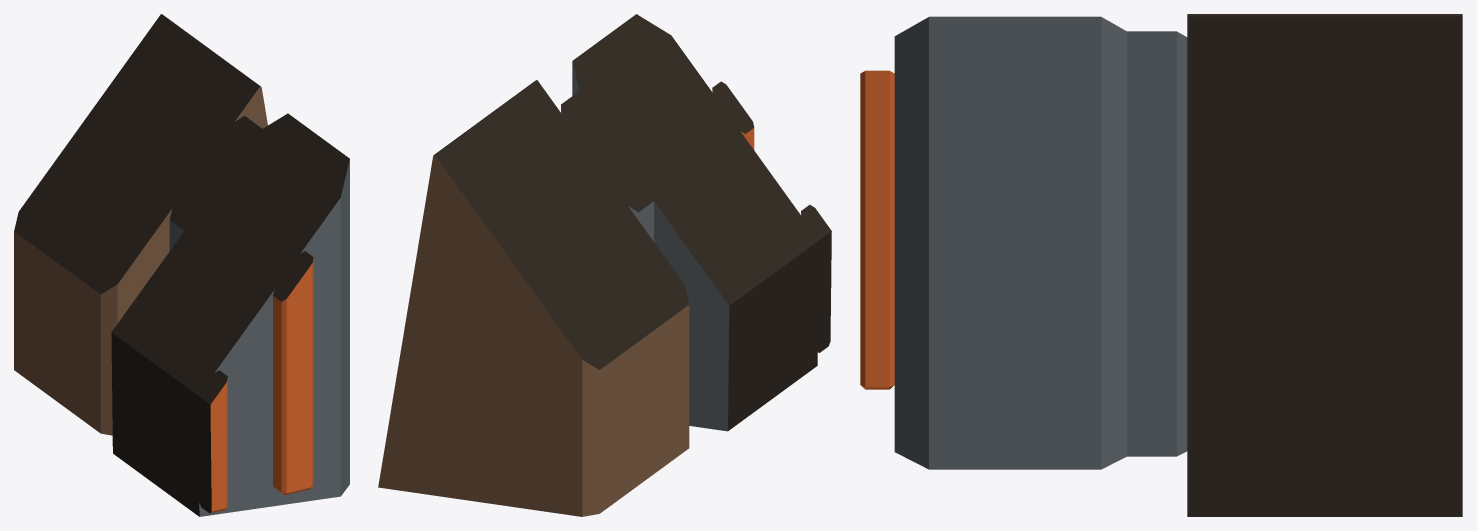
File: SM_DoorShard_01_00.fbx
3 views of the same model, side by side, from view 1: azimuth 30°, elevation 25°; view 2: azimuth 150°, elevation 25°; view 3: azimuth 270°, elevation 25° (orthographic). The views are drawn at different scales.
Parts seen in each view (by area): view 1: SM_DoorShard_01_00; view 2: SM_DoorShard_01_00; view 3: SM_DoorShard_01_00.
Part boxes in pixels (left/top/right/bottom): SM_DoorShard_01_00: left=14, top=14, right=349, bottom=516; SM_DoorShard_01_00: left=378, top=14, right=831, bottom=516; SM_DoorShard_01_00: left=860, top=14, right=1462, bottom=516.
Bounding box in the file's own units: 20.71 × 35 × 29.86.
